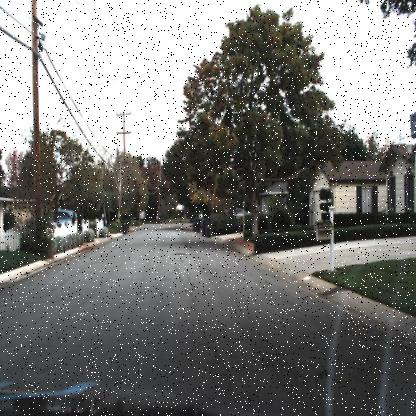car: (42, 205, 88, 229), (221, 204, 254, 229)
